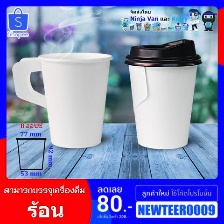paper_cup: (6, 47, 116, 153), (119, 35, 207, 154)
